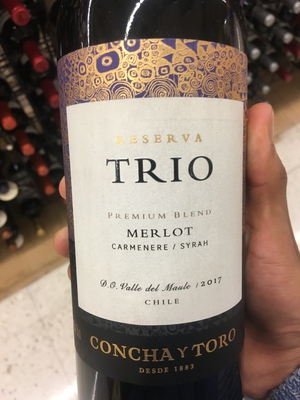trio merlot: (47, 14, 255, 392)
